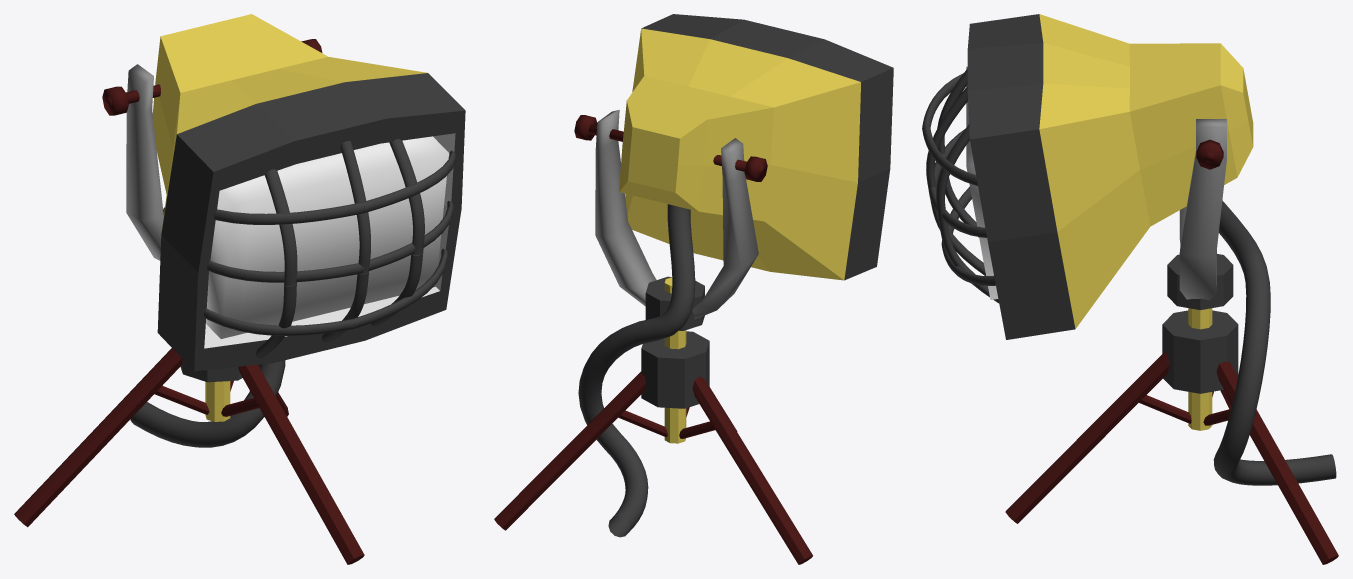
The model's file is Small_Worklight.glb.
3 renders of one model, left to right at view 1: azimuth 30°, elevation 25°; view 2: azimuth 150°, elevation 25°; view 3: azimuth 270°, elevation 25°, orthographic. The views are drawn at different scales.
Visible parts, largest first — view 1: Cube.004, Cube.005, Plane.002, Cylinder.018, Cylinder.017, BézierCurve.020, BézierCurve.015, BézierCurve.016, BézierCurve.014, BézierCurve.019, BézierCurve.017, BézierCurve.018 (+3 smaller); view 2: Cube.004, Plane.002, BézierCurve.020, Cylinder.020, Cylinder.017, Cylinder.019, Cylinder.016, Cylinder.023; view 3: Cube.004, BézierCurve.020, Plane.002, Cylinder.020, Cylinder.018, Cylinder.019, BézierCurve.017, BézierCurve.018, BézierCurve.015, Cylinder.016, Cube.005, BézierCurve.019 (+3 smaller).
Part boxes in pixels (x1,y1,x2,y2): Cube.004: (152,14,465,371); Cube.005: (206,136,448,338); Plane.002: (102,39,322,260); Cylinder.018: (238,364,364,564); Cylinder.017: (14,348,182,527); BézierCurve.020: (130,207,285,447); BézierCurve.015: (214,150,455,224); BézierCurve.016: (204,248,447,335); BézierCurve.014: (207,201,453,282); BézierCurve.019: (256,169,297,358); BézierCurve.017: (322,141,370,342); BézierCurve.018: (371,139,424,326); Cube.004: (619,14,893,280); Plane.002: (574,109,767,330); BézierCurve.020: (578,204,695,537); Cylinder.020: (641,331,709,408); Cylinder.017: (692,376,812,564); Cylinder.019: (494,371,645,530); Cylinder.016: (664,277,686,443); Cylinder.023: (618,410,667,437); Cube.004: (967,14,1253,339); BézierCurve.020: (1213,200,1336,485); Plane.002: (1167,119,1233,310); Cylinder.020: (1162,310,1238,393); Cylinder.018: (1005,351,1169,523); Cylinder.019: (1216,361,1338,564); BézierCurve.017: (926,86,985,275); BézierCurve.018: (936,124,999,303); BézierCurve.015: (922,73,977,185); Cylinder.016: (1188,308,1212,430); Cube.005: (966,66,998,299); BézierCurve.019: (937,68,979,237).
Size of the model in its own units: 4.73 by 6.71 by 5.73.
